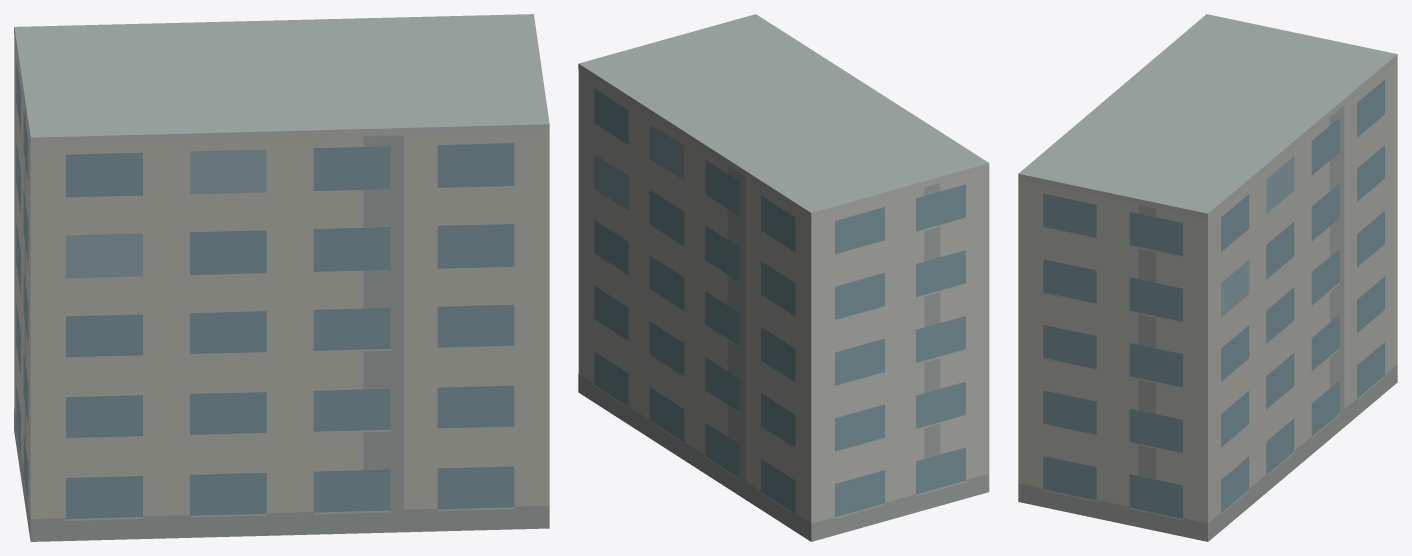
Rendered from survey-upis-32852748.glb.
3 renders of one model, left to right at view 1: azimuth 30°, elevation 25°; view 2: azimuth 150°, elevation 25°; view 3: azimuth 270°, elevation 25°, orthographic. The views are drawn at different scales.
Parts seen in each view (by area): view 1: survey-upis-32852748.tmp; view 2: survey-upis-32852748.tmp; view 3: survey-upis-32852748.tmp.
Part boxes in pixels (left/top/right/bottom): survey-upis-32852748.tmp: left=14, top=14, right=549, bottom=541; survey-upis-32852748.tmp: left=578, top=14, right=989, bottom=541; survey-upis-32852748.tmp: left=1018, top=14, right=1397, bottom=541.
Size of the model in its own units: 17.24 by 13.2 by 13.84.
